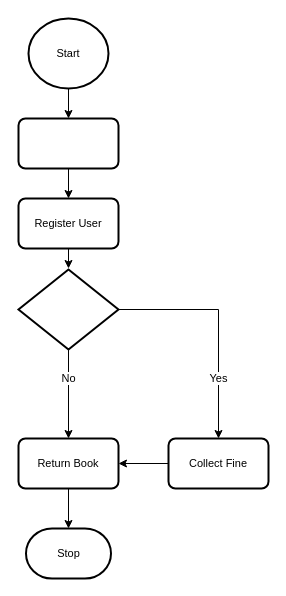
The diagram is 286 pixels wide and 596 high, and some of its shapes have lost their labels. Each missing label, with the centre of its shape:
"Exceed The Date" goes at [68,309].
"Open Record Book" goes at [68,143].
